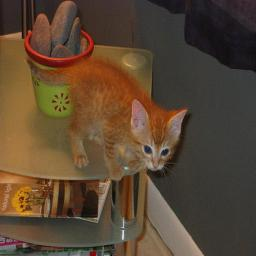catnose: (152, 157, 161, 168)
